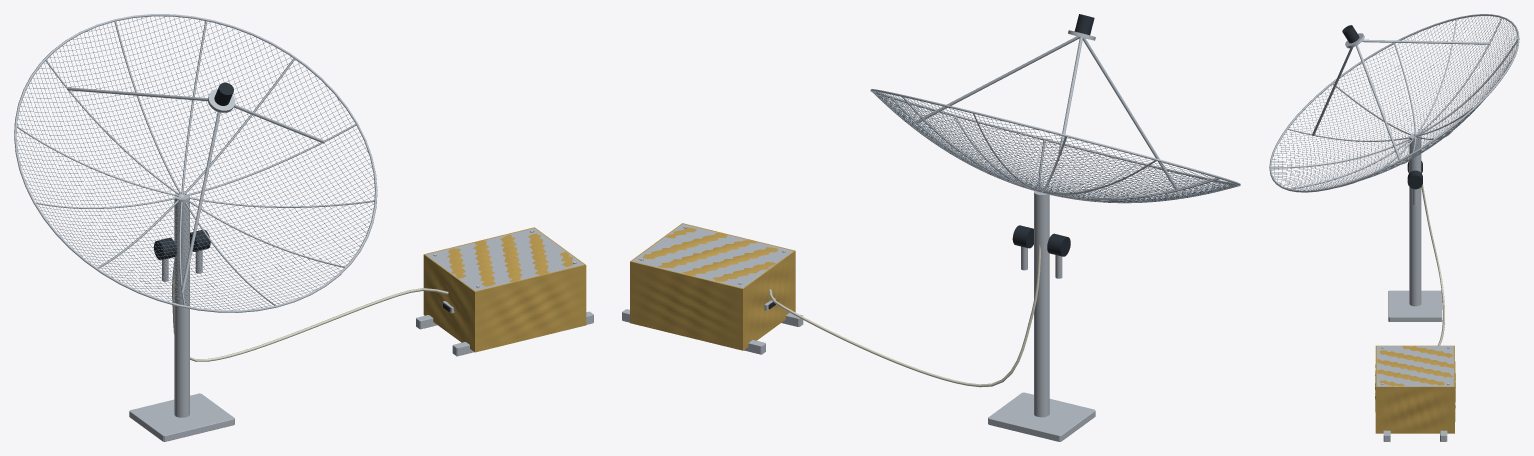
The model's file is lrv-antenna.glb.
3 renders of one model, left to right at view 1: azimuth 30°, elevation 25°; view 2: azimuth 150°, elevation 25°; view 3: azimuth 270°, elevation 25°, orthographic. The views are drawn at different scales.
Parts seen in each view (by area): view 1: REFLECTOR_WIRE_REFLECTOR_Steel_fixings, LCRU_THERMAL_COVER_Multilayer_thermal_foil, REFLECTOR_Machined_aluminium, ANTENNA_GIMBAL_Machined_aluminium, RADIO_CHASSIS_COVER_Machined_aluminium, REFLECTOR_FEED_Machined_aluminium, ANTENNA_TO_RADIO_COAX, ANTENNA_GIMBAL_Anodized_aluminium, RADIO_COLD_RAILS_Machined_aluminium; view 2: LCRU_THERMAL_COVER_Multilayer_thermal_foil, REFLECTOR_WIRE_REFLECTOR_Steel_fixings, ANTENNA_GIMBAL_Machined_aluminium, REFLECTOR_Machined_aluminium, RADIO_CHASSIS_COVER_Machined_aluminium, REFLECTOR_FEED_Machined_aluminium, ANTENNA_TO_RADIO_COAX, ANTENNA_GIMBAL_Anodized_aluminium; view 3: REFLECTOR_WIRE_REFLECTOR_Steel_fixings, LCRU_THERMAL_COVER_Multilayer_thermal_foil, REFLECTOR_Machined_aluminium, ANTENNA_GIMBAL_Machined_aluminium, RADIO_CHASSIS_COVER_Machined_aluminium, REFLECTOR_FEED_Machined_aluminium, ANTENNA_TO_RADIO_COAX, ANTENNA_GIMBAL_Anodized_aluminium.
Boxes of the visible parts, x1,y1,x2,y2 form: REFLECTOR_WIRE_REFLECTOR_Steel_fixings: (17, 16, 374, 310); LCRU_THERMAL_COVER_Multilayer_thermal_foil: (423, 227, 586, 352); REFLECTOR_Machined_aluminium: (14, 14, 377, 312); ANTENNA_GIMBAL_Machined_aluminium: (129, 194, 234, 441); RADIO_CHASSIS_COVER_Machined_aluminium: (426, 228, 583, 290); REFLECTOR_FEED_Machined_aluminium: (67, 87, 324, 292); ANTENNA_TO_RADIO_COAX: (172, 261, 448, 361); ANTENNA_GIMBAL_Anodized_aluminium: (153, 229, 210, 260); RADIO_COLD_RAILS_Machined_aluminium: (416, 311, 593, 356); LCRU_THERMAL_COVER_Multilayer_thermal_foil: (630, 223, 795, 350); REFLECTOR_WIRE_REFLECTOR_Steel_fixings: (874, 91, 1237, 202); ANTENNA_GIMBAL_Machined_aluminium: (988, 188, 1095, 441); REFLECTOR_Machined_aluminium: (870, 89, 1240, 203); RADIO_CHASSIS_COVER_Machined_aluminium: (632, 224, 793, 287); REFLECTOR_FEED_Machined_aluminium: (915, 30, 1177, 189); ANTENNA_TO_RADIO_COAX: (769, 245, 1040, 387); ANTENNA_GIMBAL_Anodized_aluminium: (1012, 225, 1070, 256); REFLECTOR_WIRE_REFLECTOR_Steel_fixings: (1271, 16, 1517, 190); LCRU_THERMAL_COVER_Multilayer_thermal_foil: (1375, 345, 1455, 433); REFLECTOR_Machined_aluminium: (1269, 14, 1519, 192); ANTENNA_GIMBAL_Machined_aluminium: (1388, 134, 1442, 321); RADIO_CHASSIS_COVER_Machined_aluminium: (1377, 346, 1453, 386); REFLECTOR_FEED_Machined_aluminium: (1312, 33, 1489, 163); ANTENNA_TO_RADIO_COAX: (1421, 184, 1444, 345); ANTENNA_GIMBAL_Anodized_aluminium: (1407, 161, 1422, 189).
Bounding box in the file's own units: 1.48 × 0.9388 × 0.7515.
